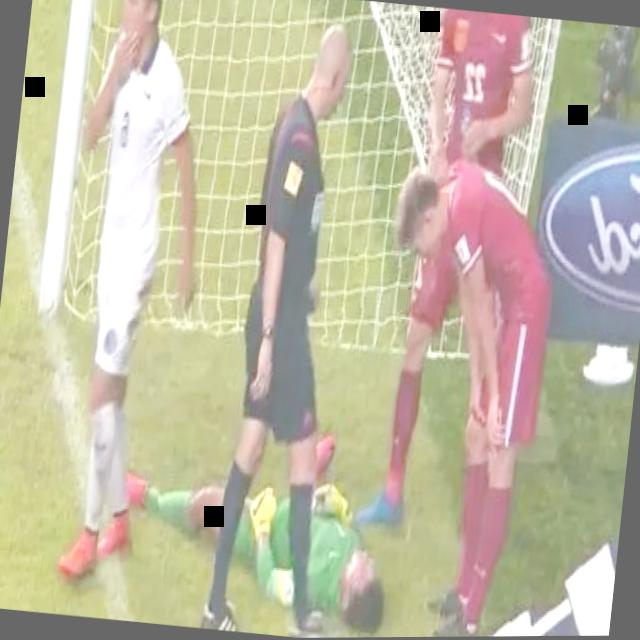Fall-Detected: (95, 401, 412, 630)
